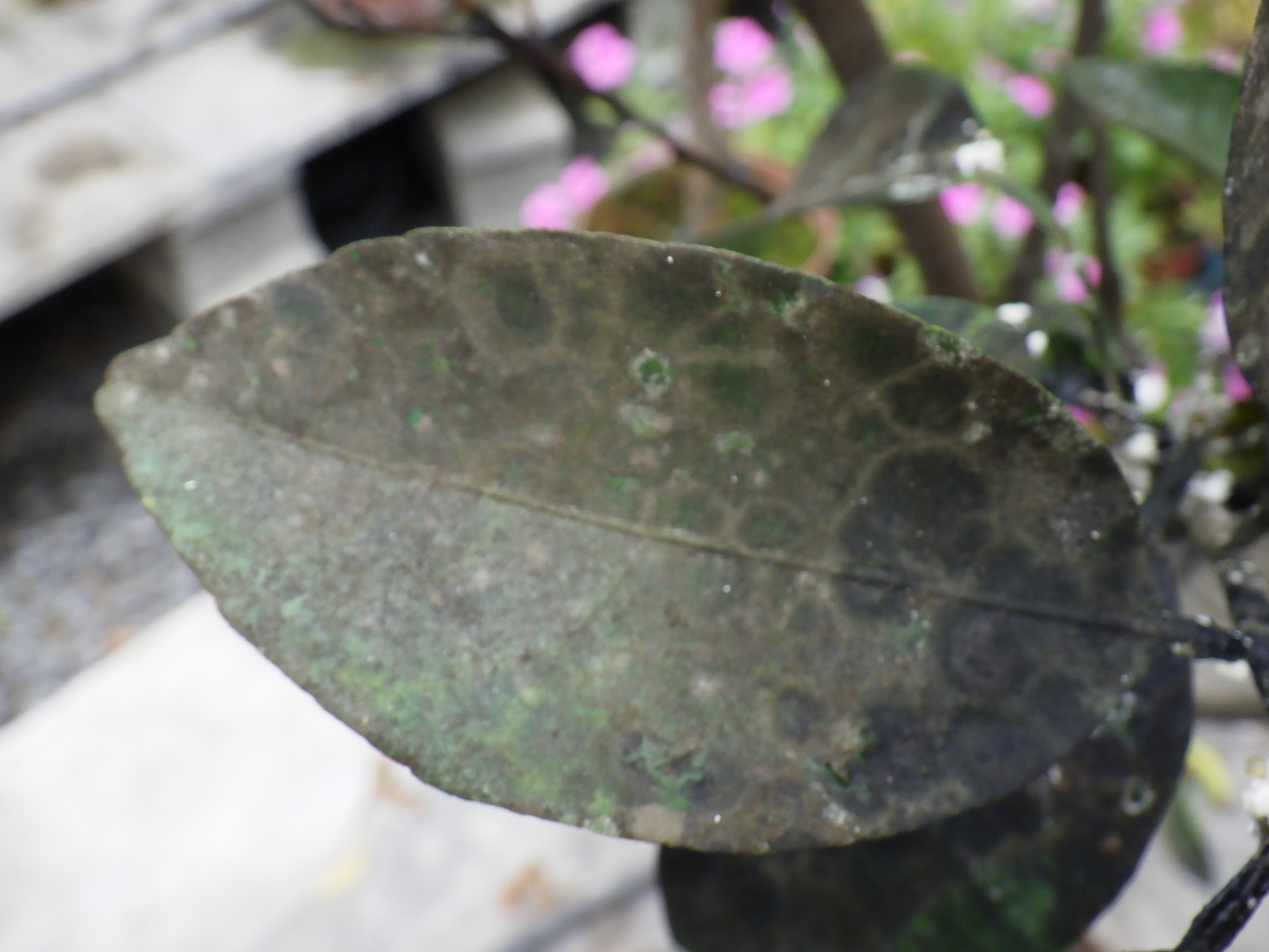Sooty_Mold: (99, 229, 1174, 852)
